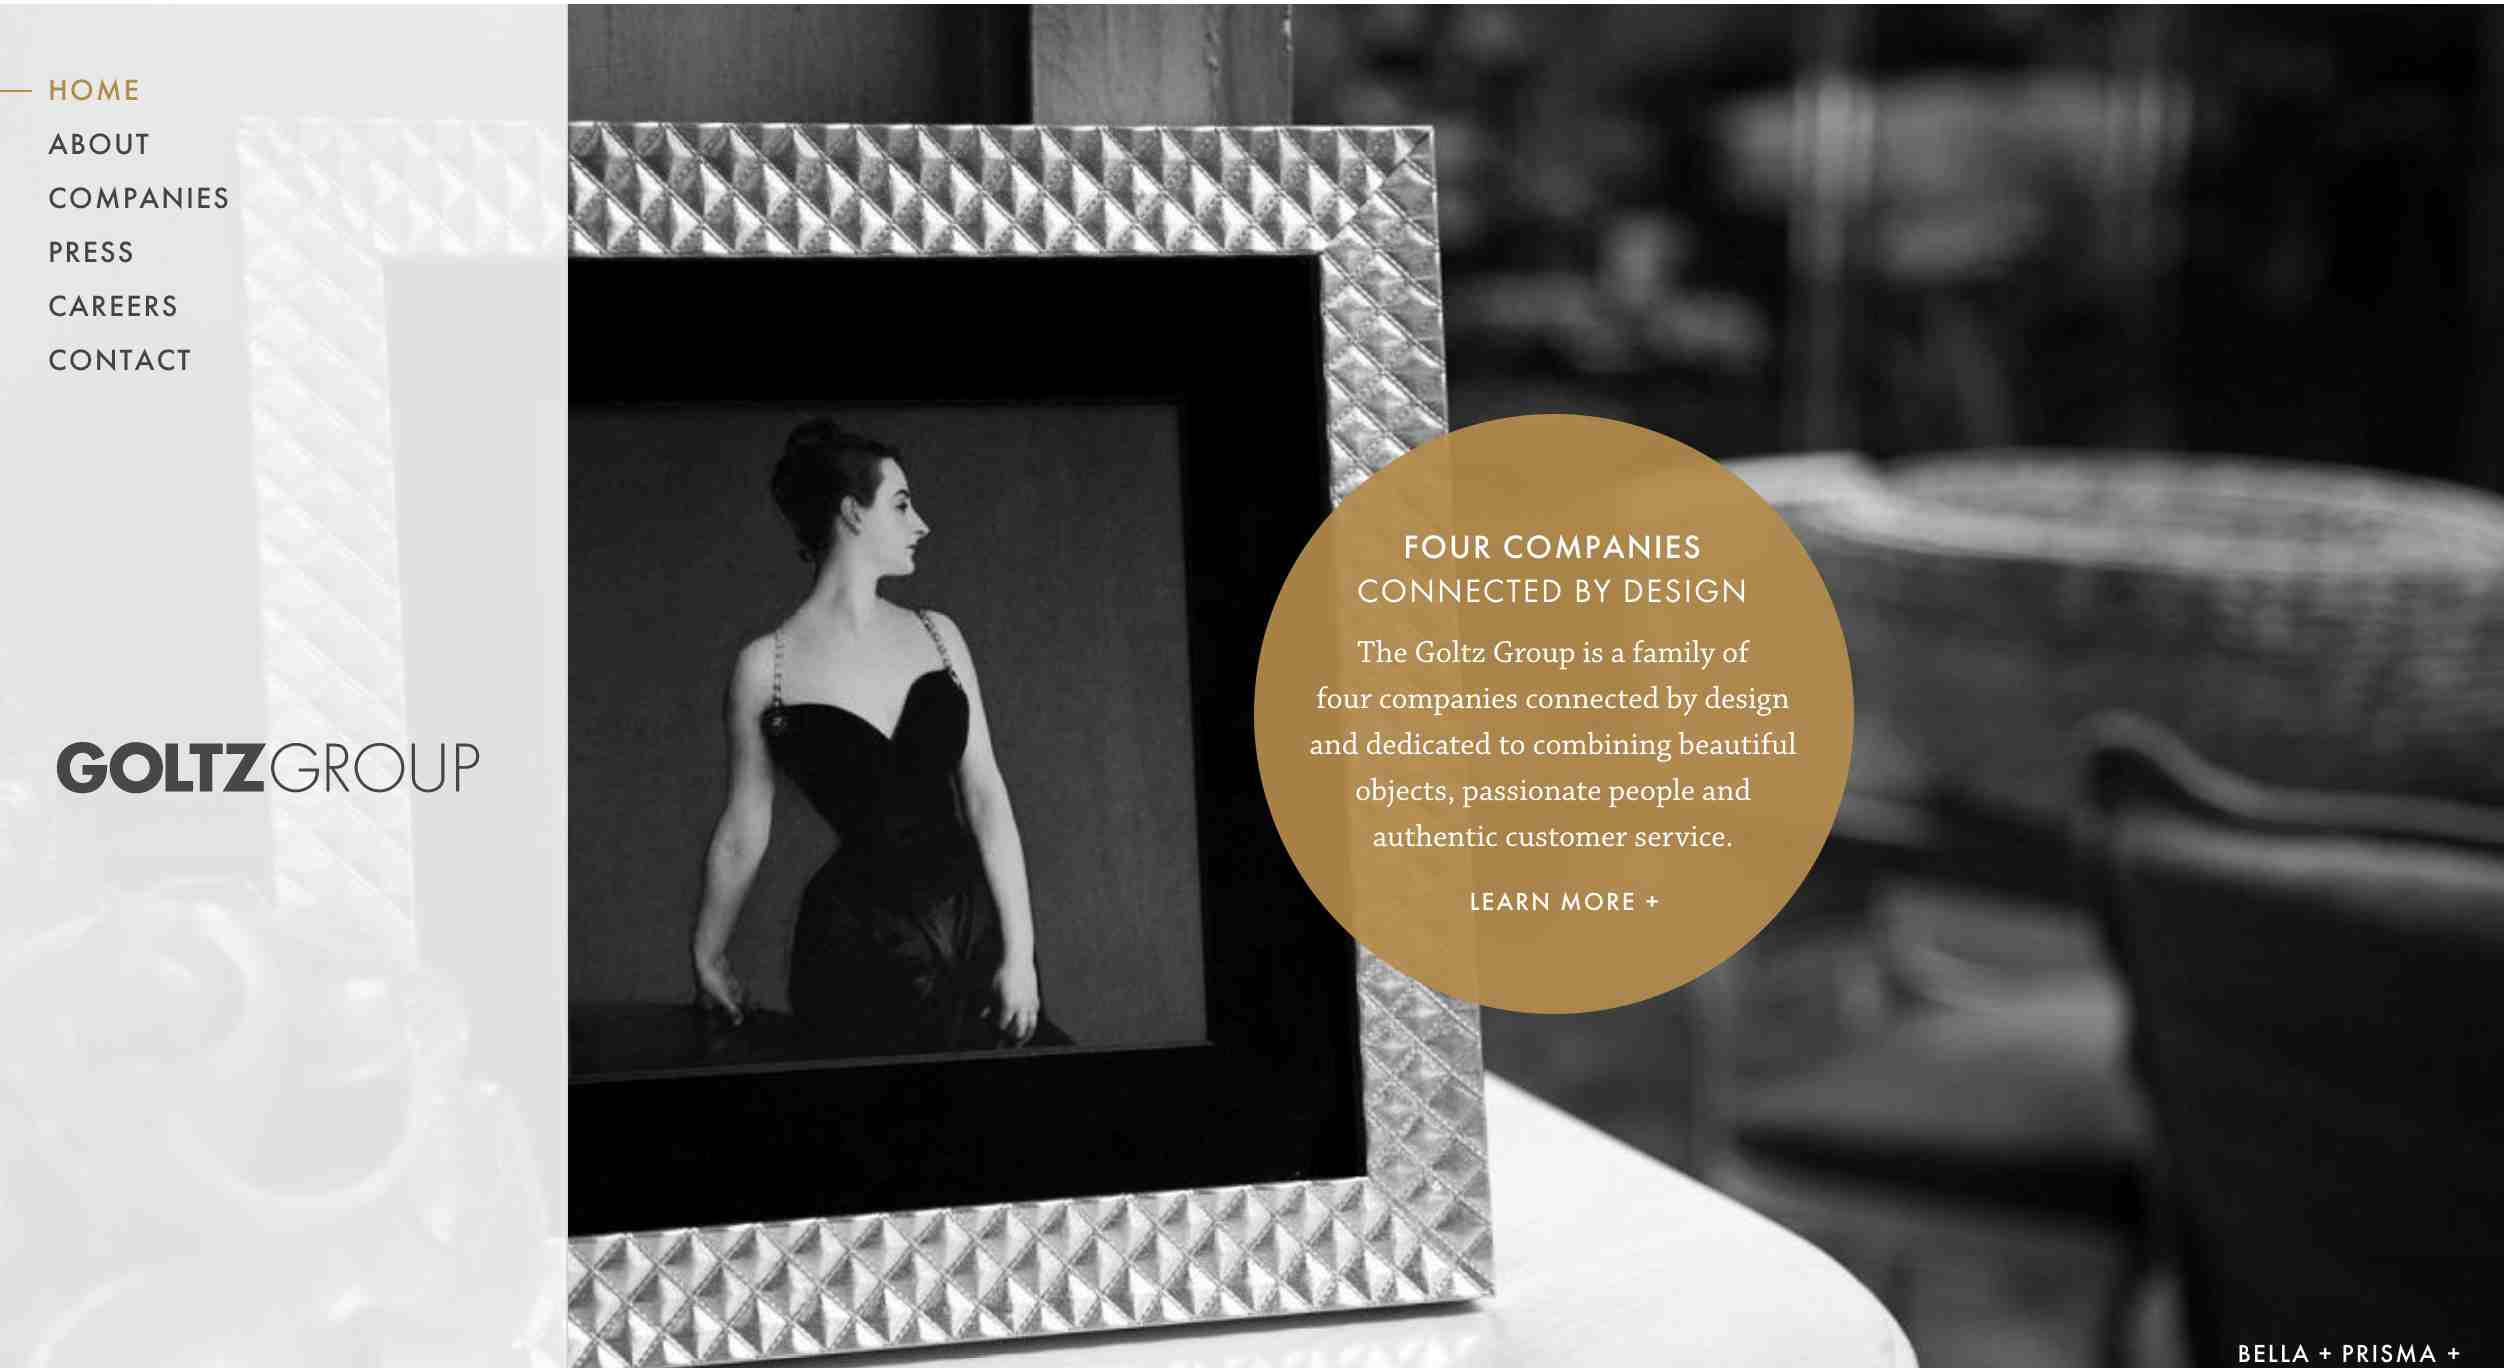Image: (561, 0, 2501, 1353)
Side Bar: (0, 0, 561, 1365)
